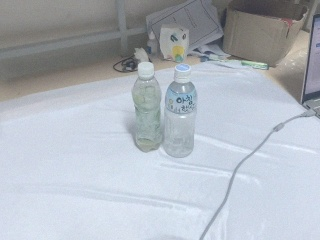bottle: (161, 63, 199, 158), (129, 62, 164, 154)
box: (222, 1, 307, 68)
